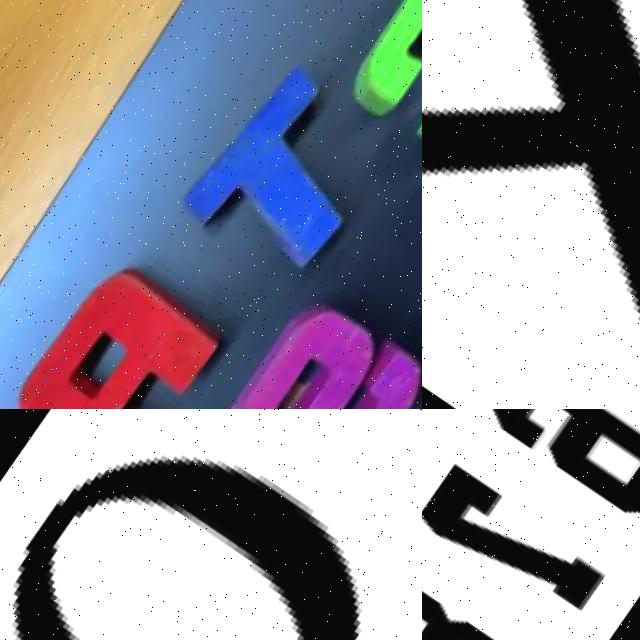6: (475, 409, 640, 524)
7: (422, 444, 633, 622)
8: (422, 544, 563, 640)
9: (0, 409, 422, 640)
A: (0, 237, 244, 409)
C: (333, 0, 422, 167)
G: (370, 39, 422, 355)
S: (203, 275, 422, 409)
T: (170, 52, 412, 300)
X: (422, 0, 640, 409)
